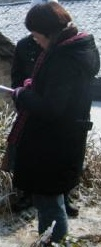boots: (64, 196, 79, 217), (0, 228, 14, 244)
gloves: (0, 109, 12, 132), (10, 86, 26, 101)
hard-hat: (0, 0, 28, 31)
